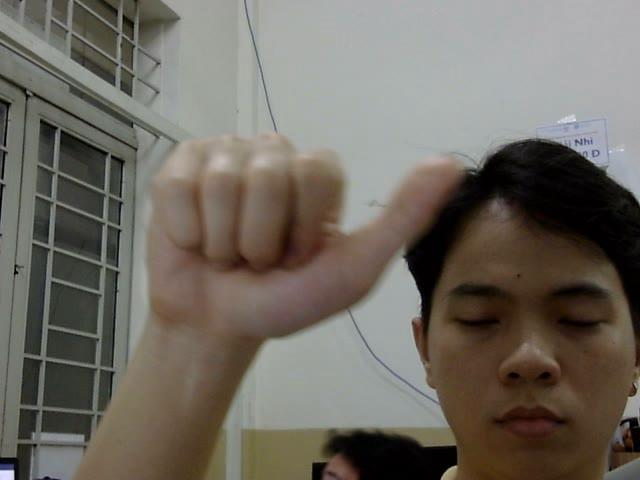A: (138, 126, 464, 331)
